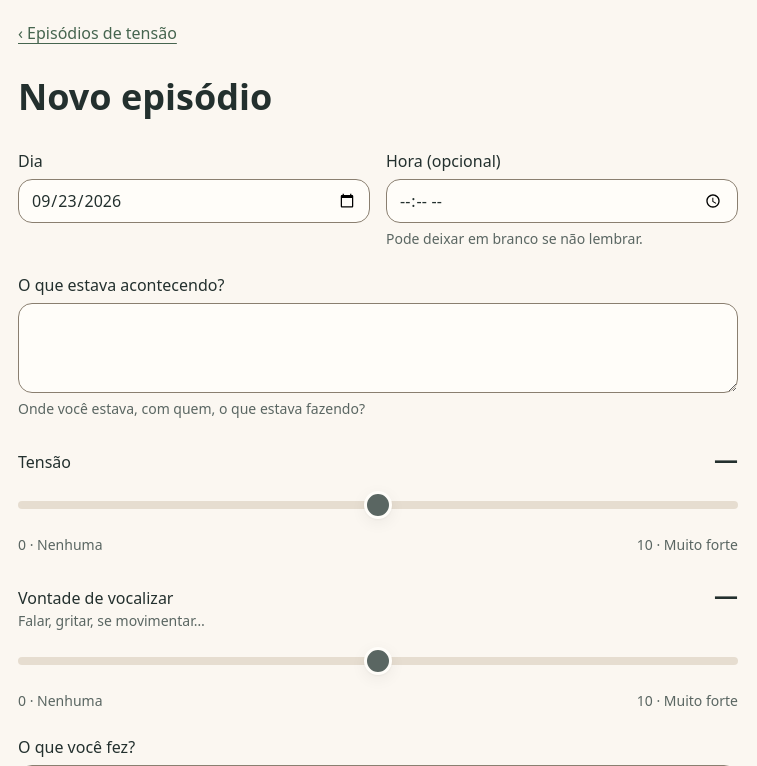
/tensao/novo › salva sem hora (null) e volta para a semana com o aviso
Type "Fila do mercado" into the text box labelled "O que estava acontecendo?" at (378, 348), box [18,303,738,393]
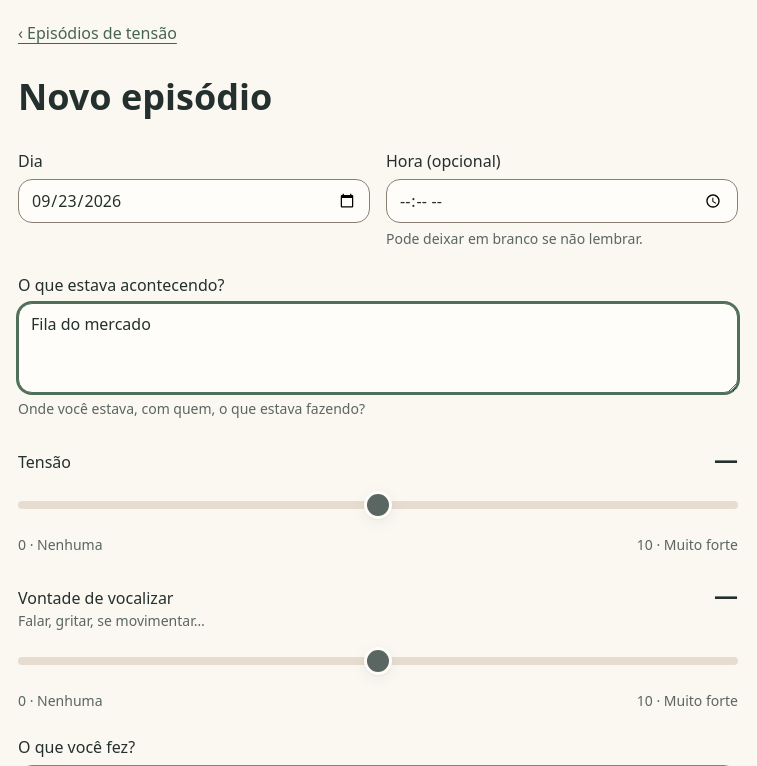
Set the slider labelled "Tensão" to "8" at (589, 505), box [18,483,738,527]
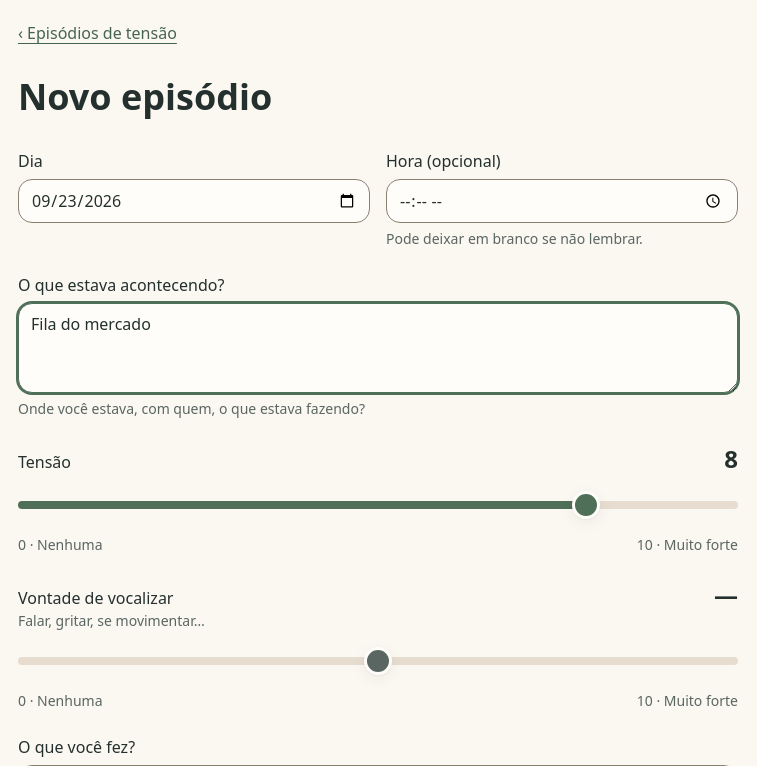
Set the slider labelled "Vontade de vocalizar" to "6" at (448, 661), box [18,639,738,683]
(page scrolled)
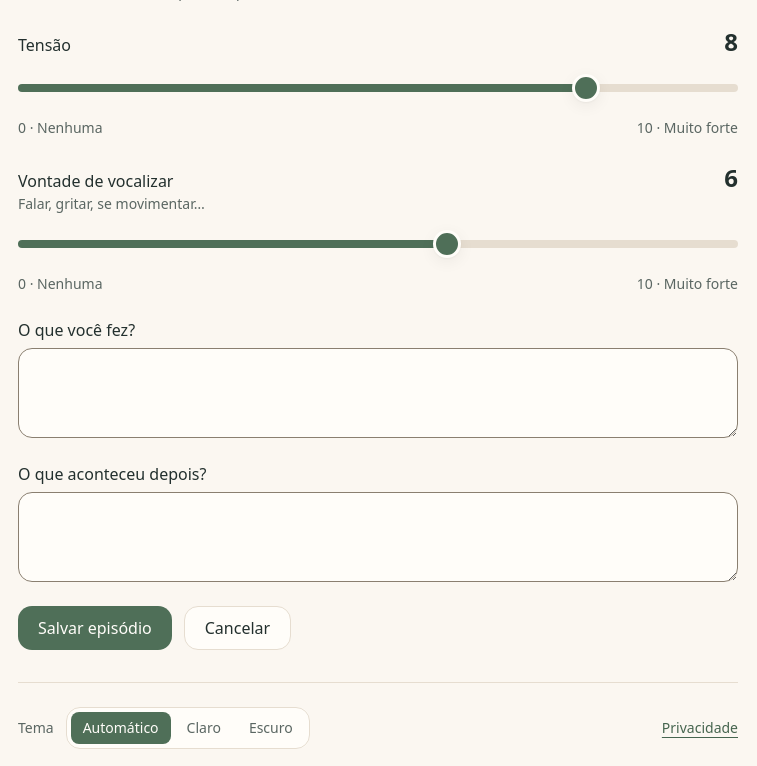
Type "Respirei fundo" into the text box labelled "O que você fez?" at (378, 393), box [18,348,738,438]
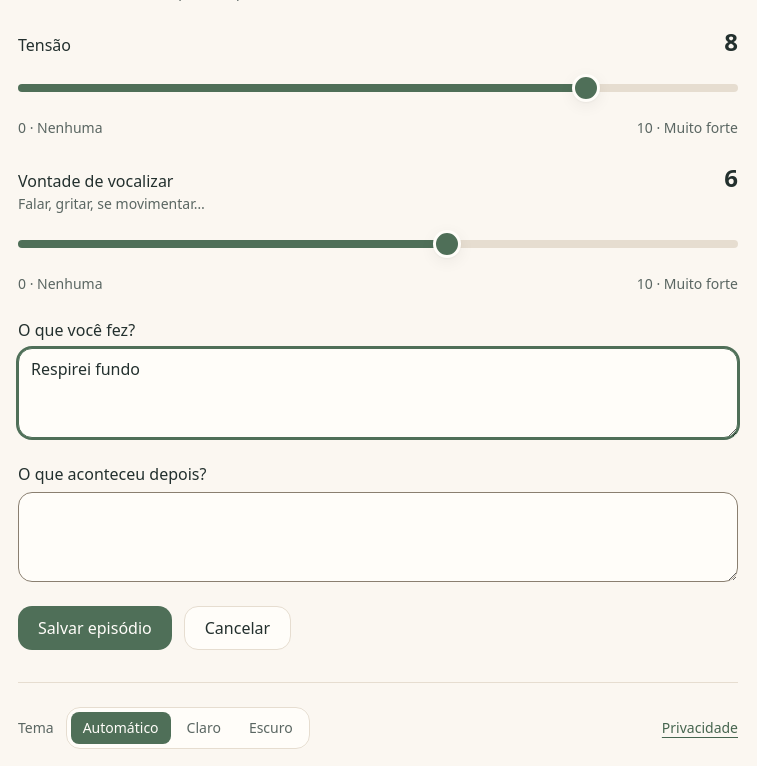
Type "Passou aos poucos" into the text box labelled "O que aconteceu depois?" at (378, 537), box [18,492,738,582]
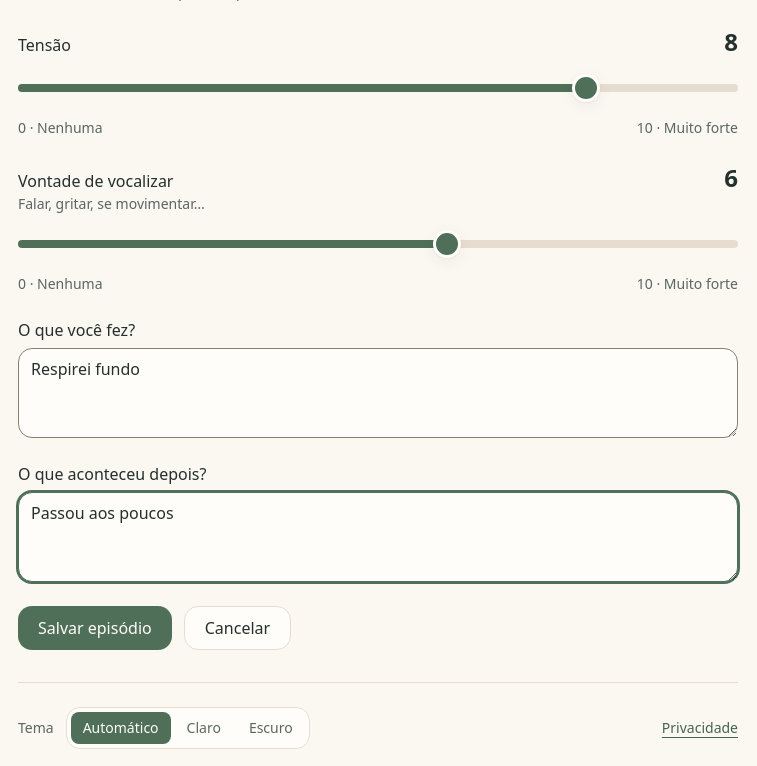
Click the button "Salvar episódio" at (95, 628), box [18,606,172,650]
(page scrolled)
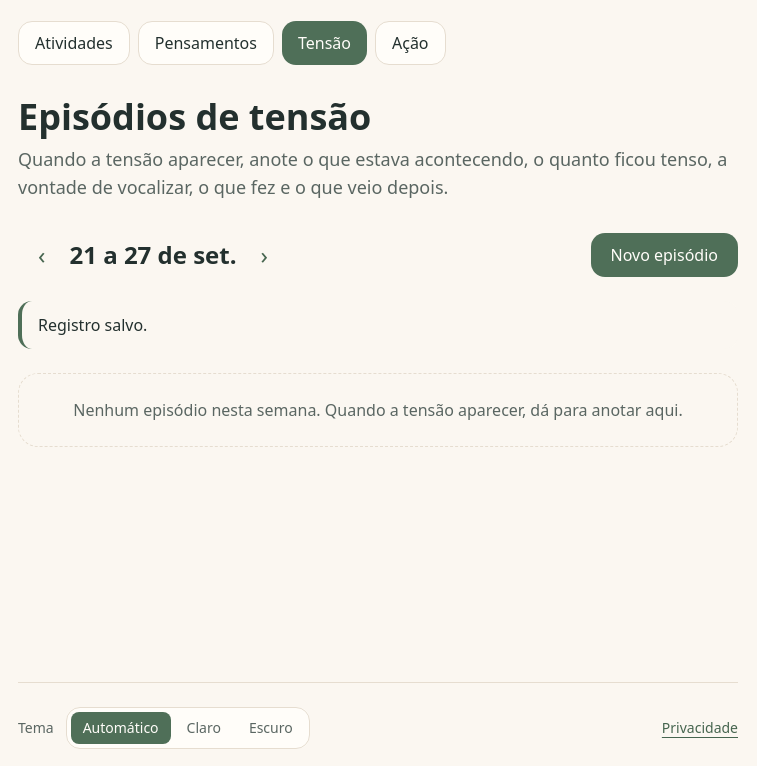
Expected: the text "Registro salvo." is shown, [18,301,738,349]
